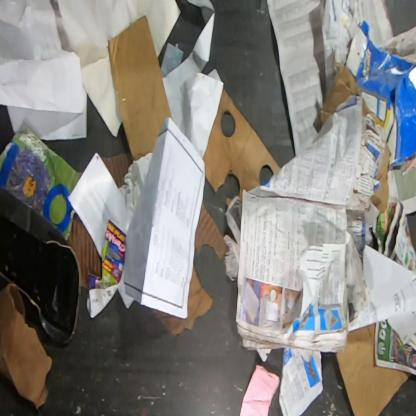cardboard: (345, 19, 415, 171), (0, 118, 83, 240), (108, 15, 172, 160), (203, 88, 281, 206), (335, 323, 413, 415), (0, 282, 53, 410), (151, 264, 213, 338), (67, 213, 102, 290), (319, 64, 361, 126), (195, 199, 230, 260), (372, 143, 390, 214), (101, 152, 134, 190)
